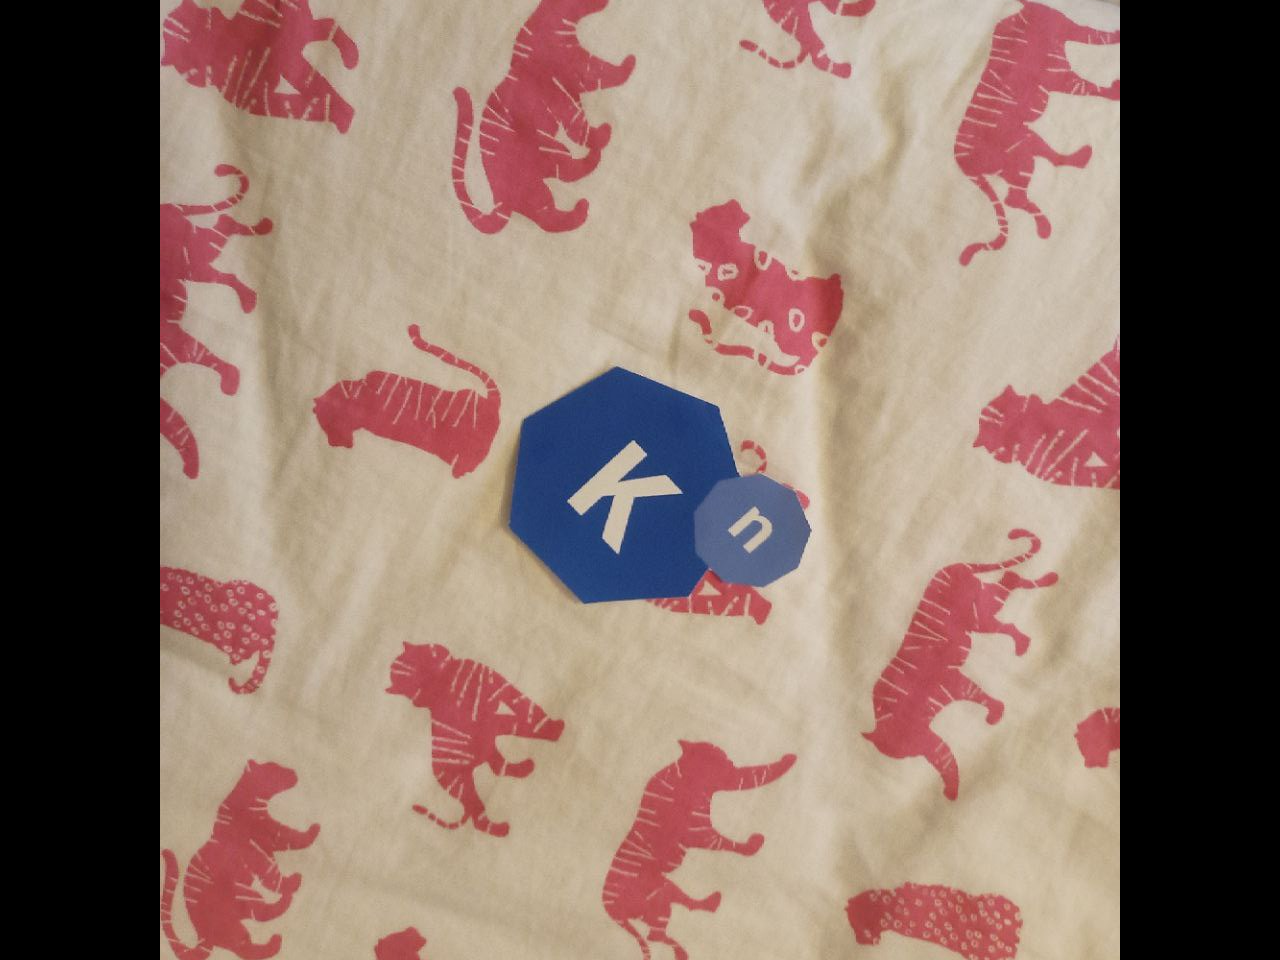knative: (508, 366, 812, 603)
